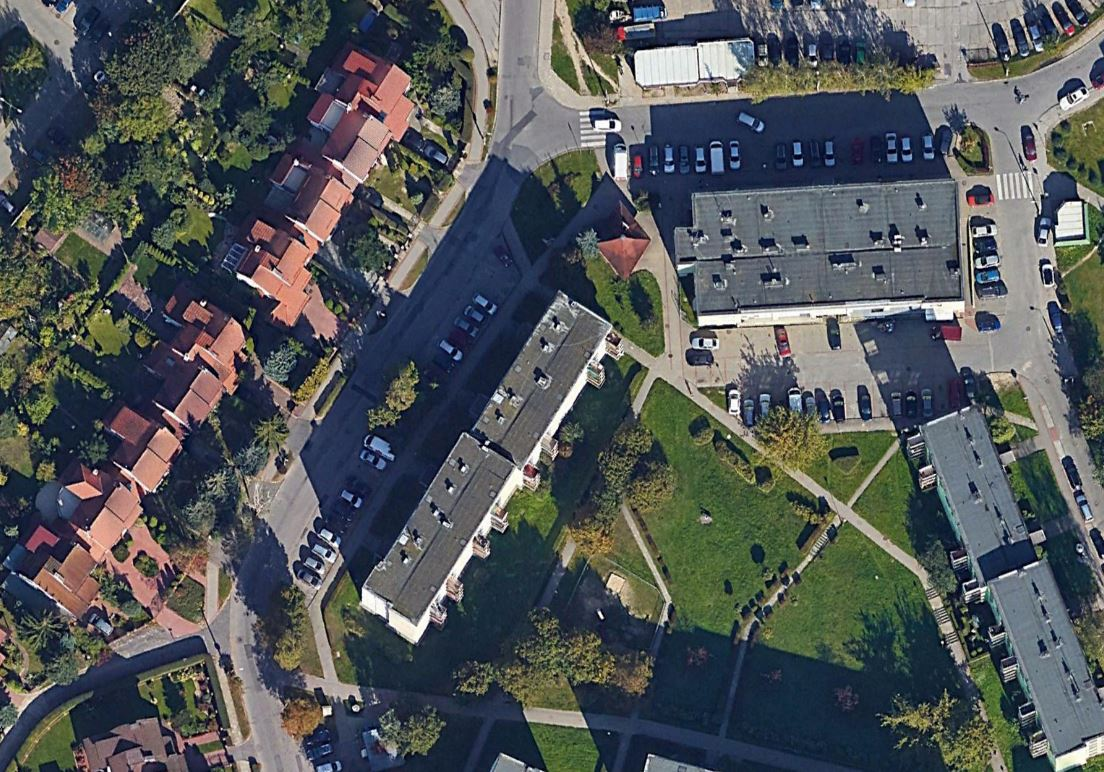block of flats: (343, 274, 643, 656), (894, 391, 1100, 772)
shopping_center: (671, 164, 1021, 352)
terrace house: (1, 290, 267, 630), (208, 38, 447, 337)
